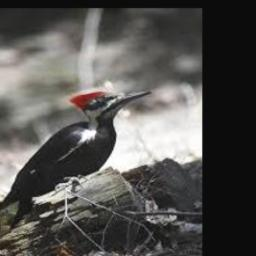Woodpecker: (0, 88, 151, 225)
